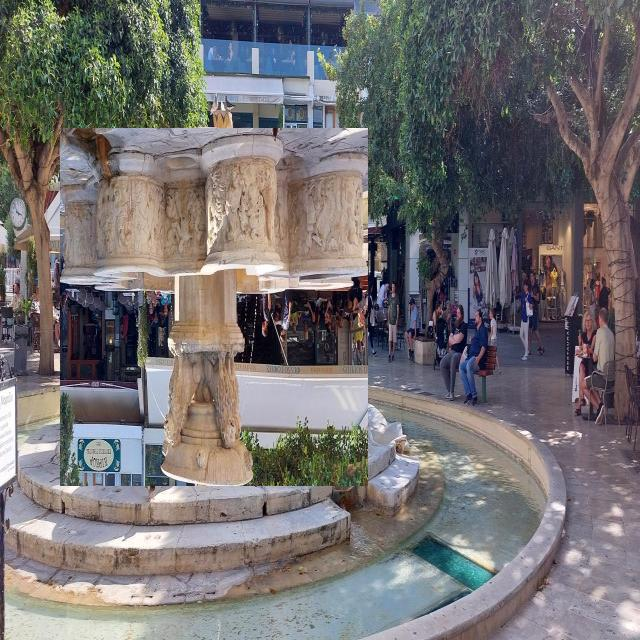Liontaria: (61, 129, 369, 487)
